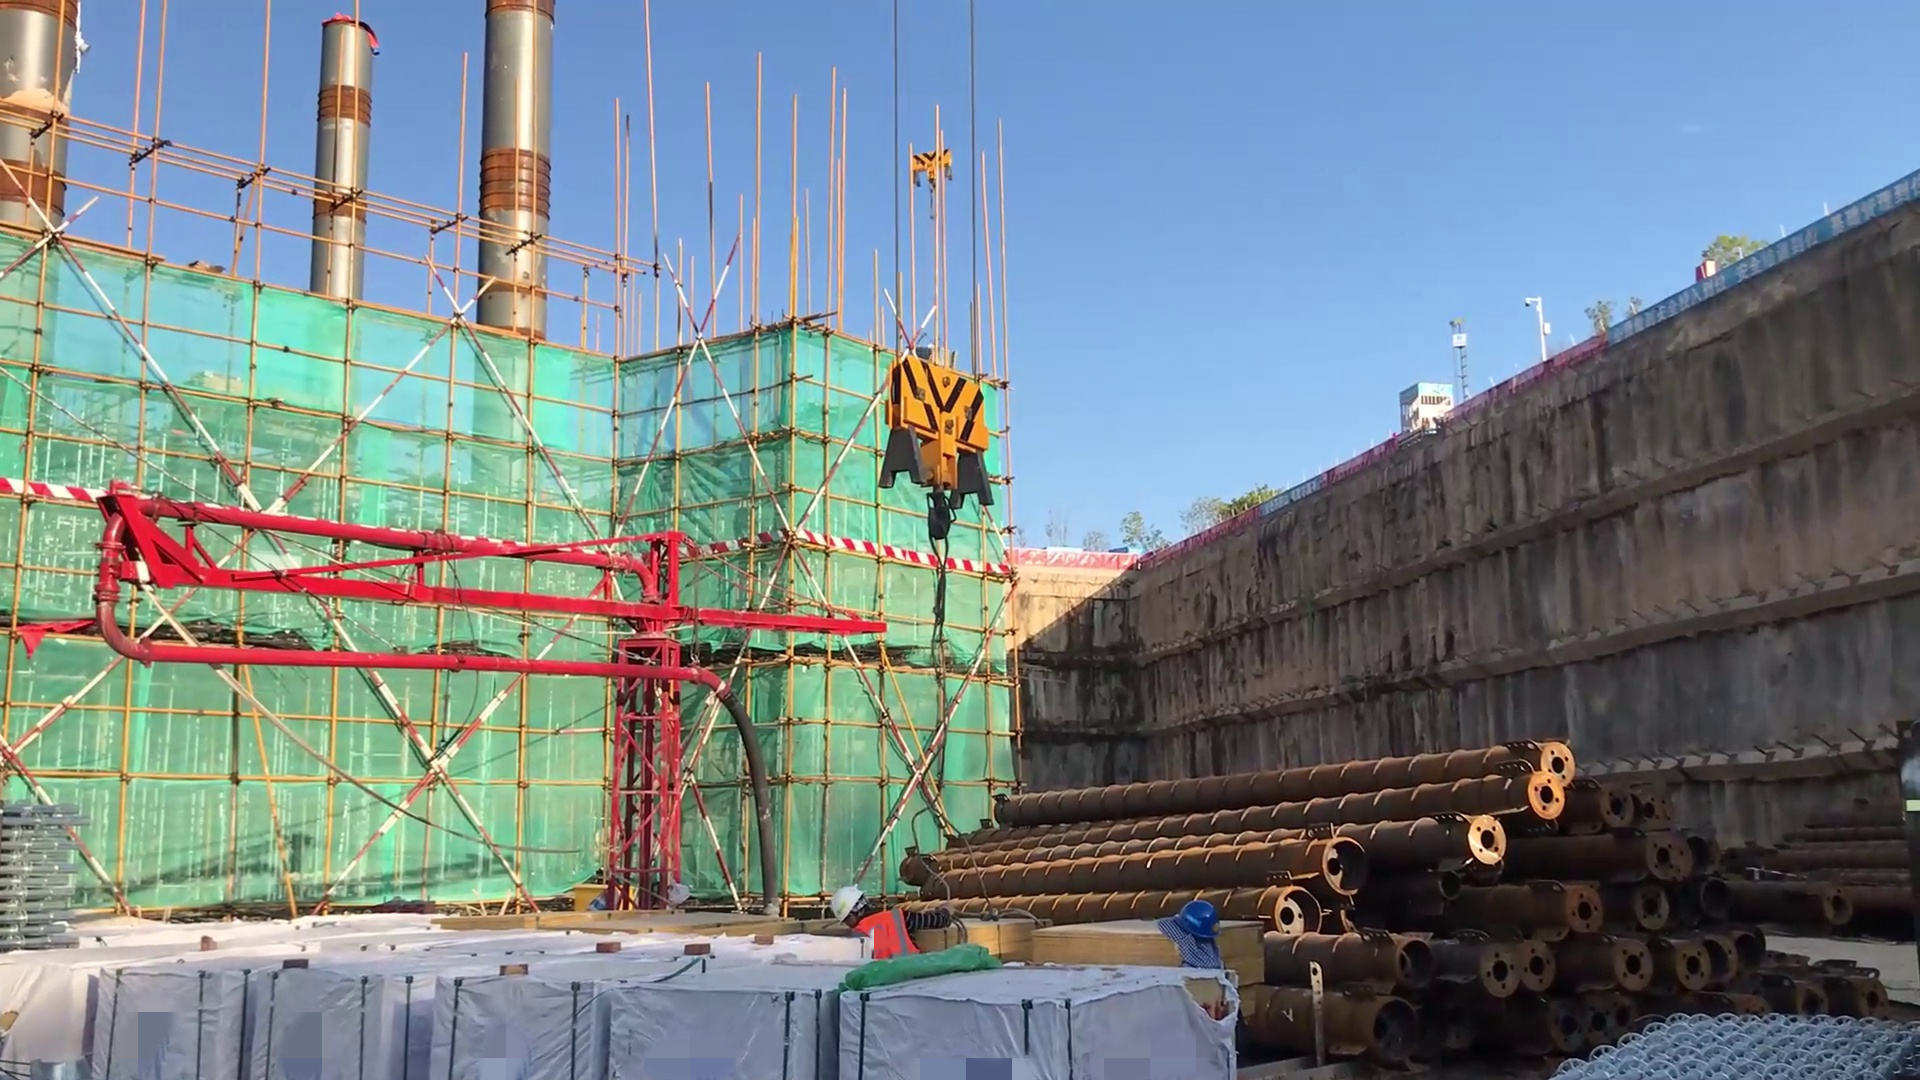board: (1031, 918, 1267, 969), (952, 916, 1042, 962)
ebox: (569, 876, 638, 923)
helmet: (1168, 891, 1238, 954), (822, 879, 893, 940)
hook: (877, 335, 1008, 588), (876, 123, 969, 201)
person: (804, 875, 967, 960)
scaffold: (1558, 966, 1920, 1075), (1, 792, 105, 951)
slogan: (1600, 164, 1920, 346), (1259, 464, 1333, 527)
vest: (839, 904, 930, 963)
